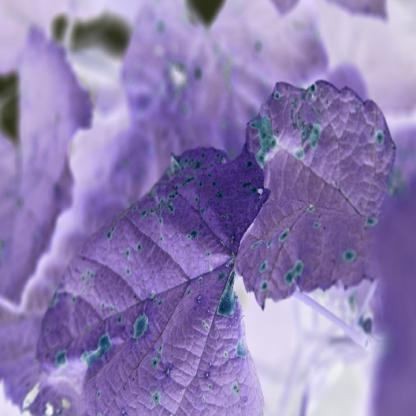grape leaf: (30, 121, 274, 415), (235, 74, 410, 325)
